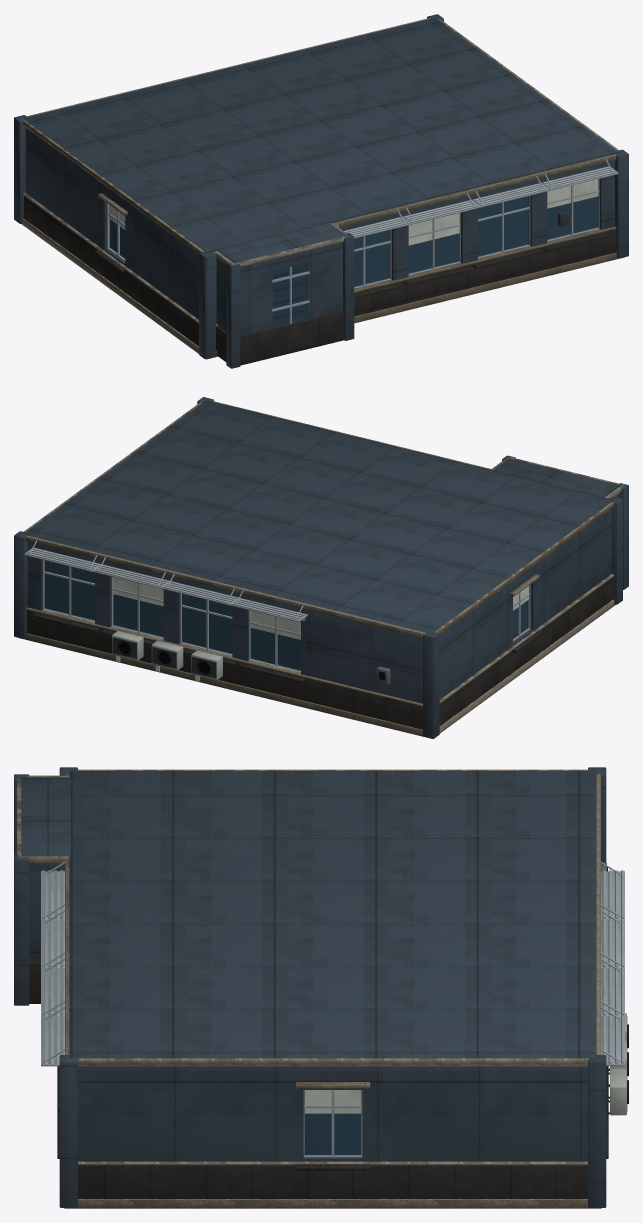
The model's file is fac_office_floor.glb.
The picture shows the model from 3 angles, top to bottom: view 1: azimuth 30°, elevation 25°; view 2: azimuth 150°, elevation 25°; view 3: azimuth 270°, elevation 25°; orthographic projection. The views are drawn at different scales.
Parts seen in each view (by area): view 1: FAC_OFFICE_FLOOR; view 2: FAC_OFFICE_FLOOR; view 3: FAC_OFFICE_FLOOR.
Boxes of the visible parts, left/top/right/bottom form: FAC_OFFICE_FLOOR: left=14, top=14, right=628, bottom=368; FAC_OFFICE_FLOOR: left=14, top=397, right=628, bottom=738; FAC_OFFICE_FLOOR: left=14, top=767, right=628, bottom=1208.
Bounding box in the file's own units: 13.86 × 3.24 × 12.11.
Materials: 15 (11 with a texture image).
